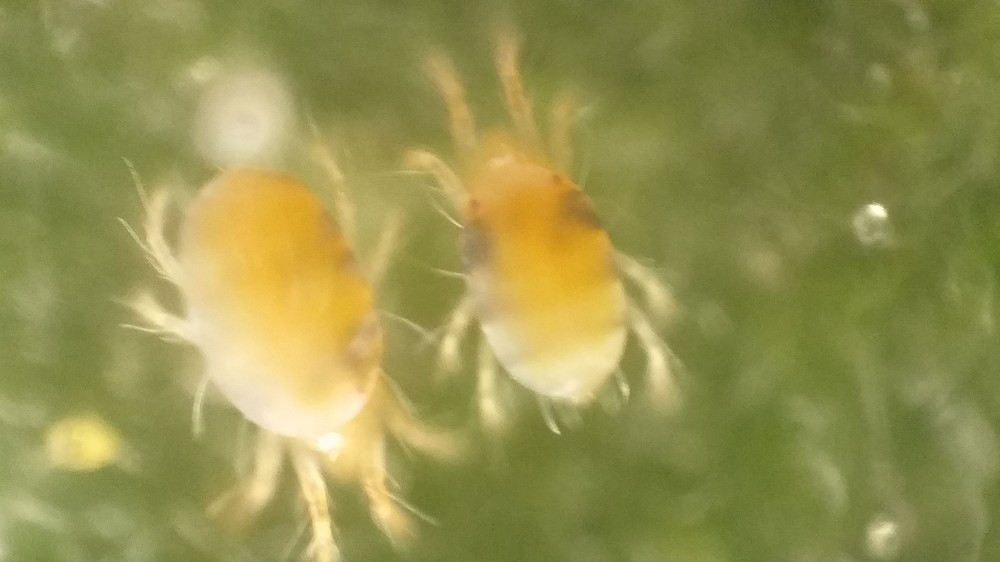Aracnido Rojo: (120, 128, 445, 558), (386, 36, 703, 462)
